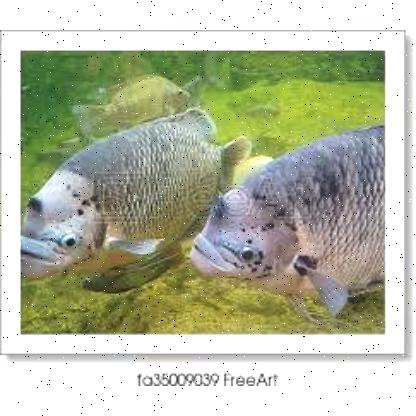gurame: (22, 109, 240, 285), (193, 121, 382, 310)
